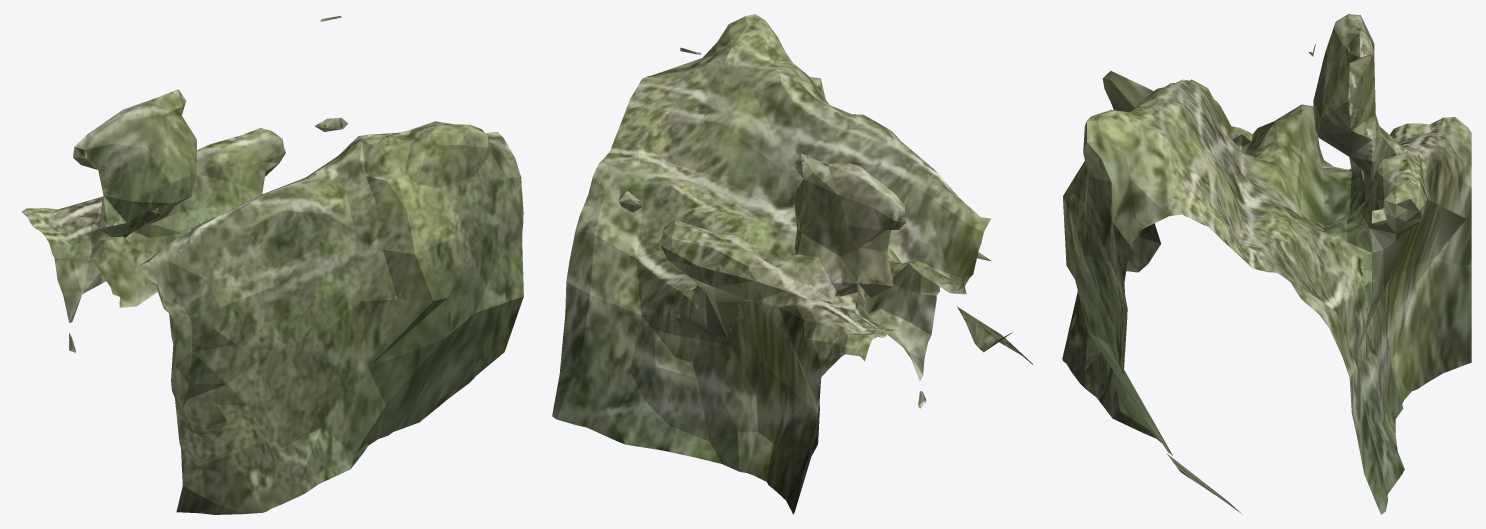
3 renders of one model, left to right at view 1: azimuth 30°, elevation 25°; view 2: azimuth 150°, elevation 25°; view 3: azimuth 270°, elevation 25°, orthographic. The views are drawn at different scales.
Bounding box in the file's own units: 2.95 × 2.95 × 2.67.
5 materials, 5 textured.
